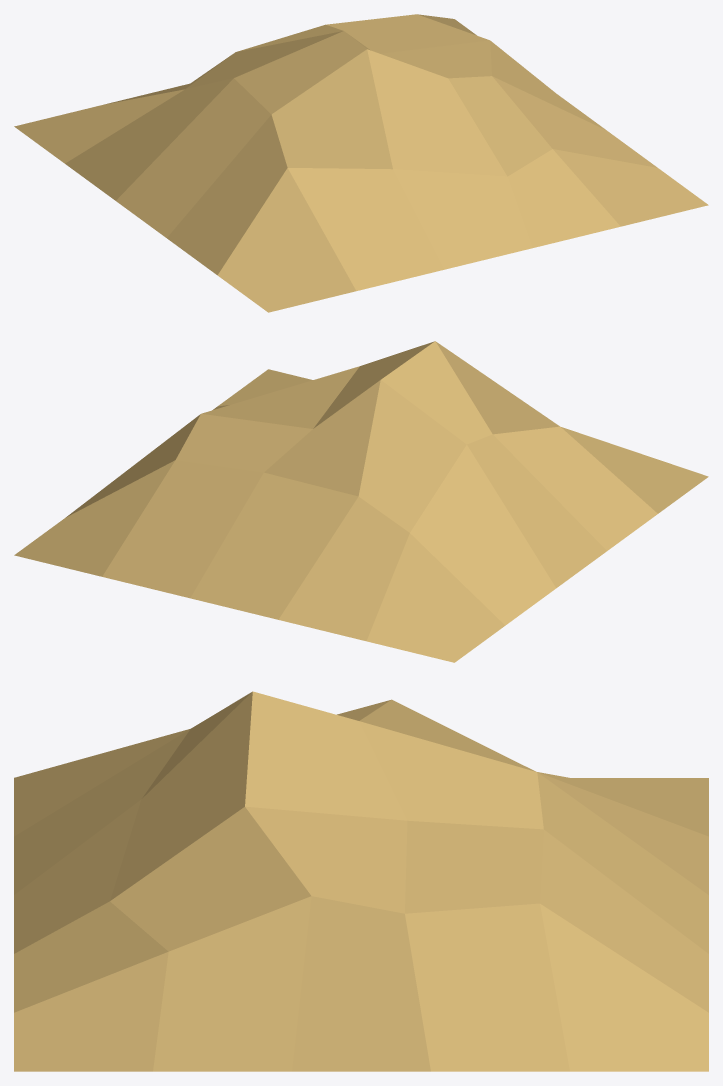
Rendered from SandMount_2.fbx.
3 renders of one model, top to bottom at view 1: azimuth 30°, elevation 25°; view 2: azimuth 150°, elevation 25°; view 3: azimuth 270°, elevation 25°, orthographic. The views are drawn at different scales.
Visible parts, largest first — view 1: Plane; view 2: Plane; view 3: Plane.
Boxes of the visible parts, x1=… form: Plane: x1=14, y1=14, x2=708, y2=312; Plane: x1=14, y1=341, x2=708, y2=662; Plane: x1=14, y1=691, x2=708, y2=1071.
Size of the model in its own units: 200 by 66.86 by 200.
